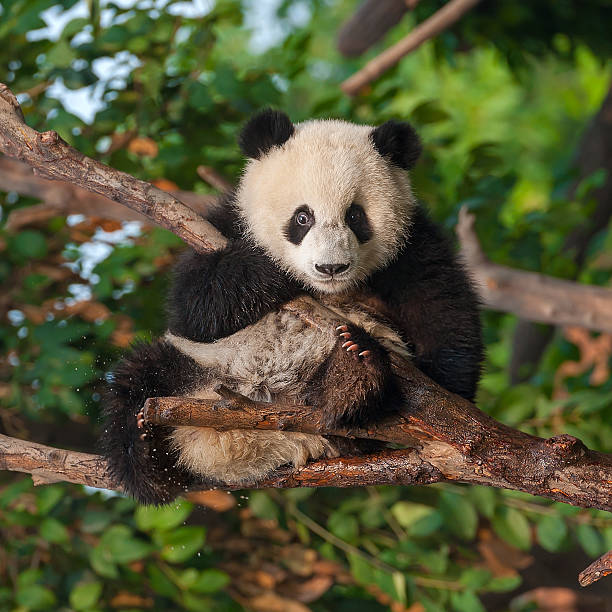panda: (210, 90, 448, 320)
